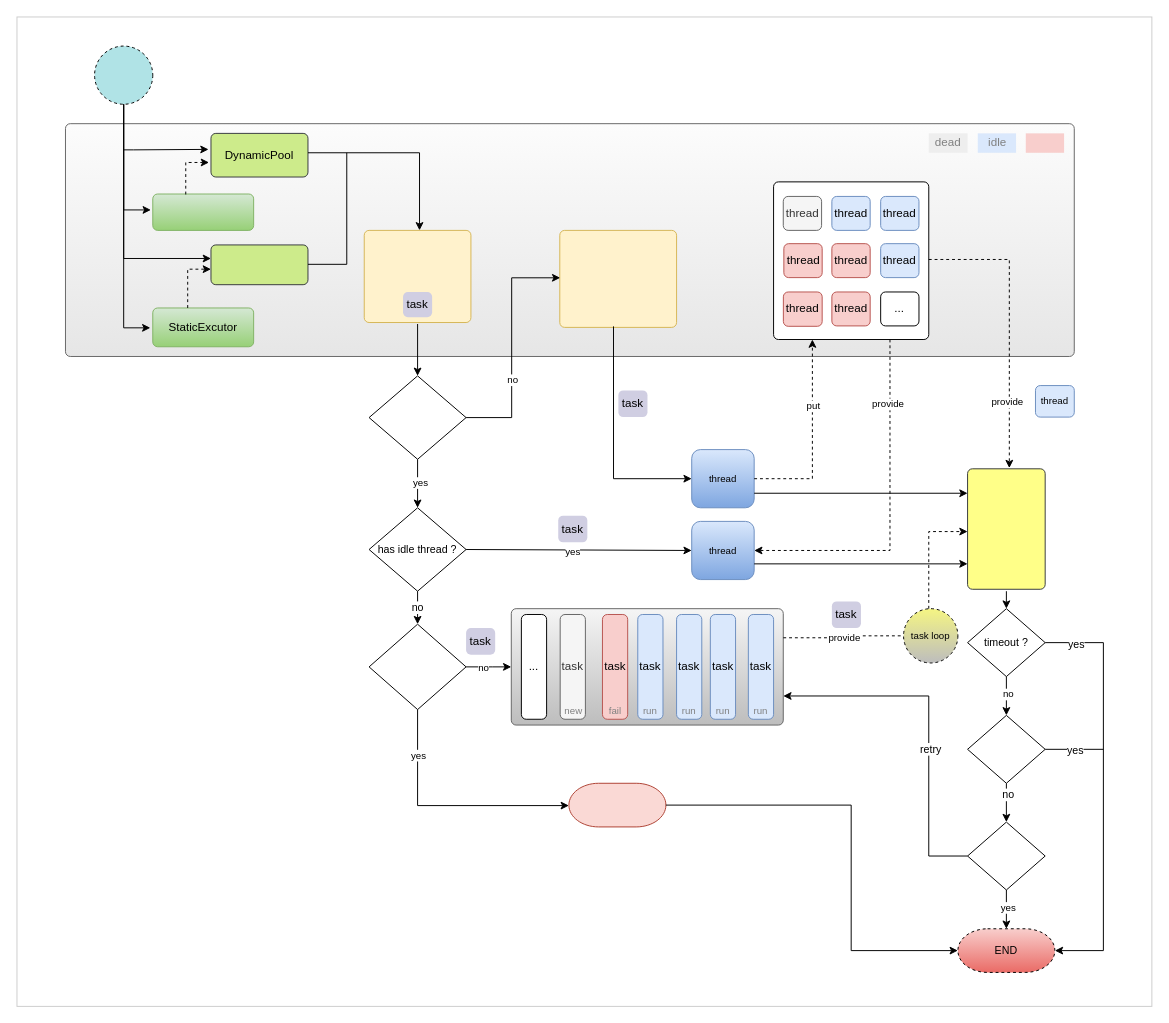
The diagram is 1169 pixels wide and 1023 high, and some of its shapes have lost their labels. The box of each missing label's shape, as (x1, y1, x2, y2) in pixels:
busy: (1025, 133, 1064, 152)
can retry ?: (967, 821, 1045, 890)
DISPATCH: (94, 45, 153, 104)
DynamicExcutor: (152, 193, 254, 230)
excute task: (967, 468, 1045, 589)
is pool full ?: (368, 375, 466, 459)
is queue full ?: (368, 623, 466, 710)
StaticPool: (210, 244, 308, 285)
success ?: (967, 714, 1045, 783)
TaskGenerator: (363, 229, 471, 323)
ThreadGenerator: (559, 229, 677, 327)
throw Error: (568, 782, 666, 827)
